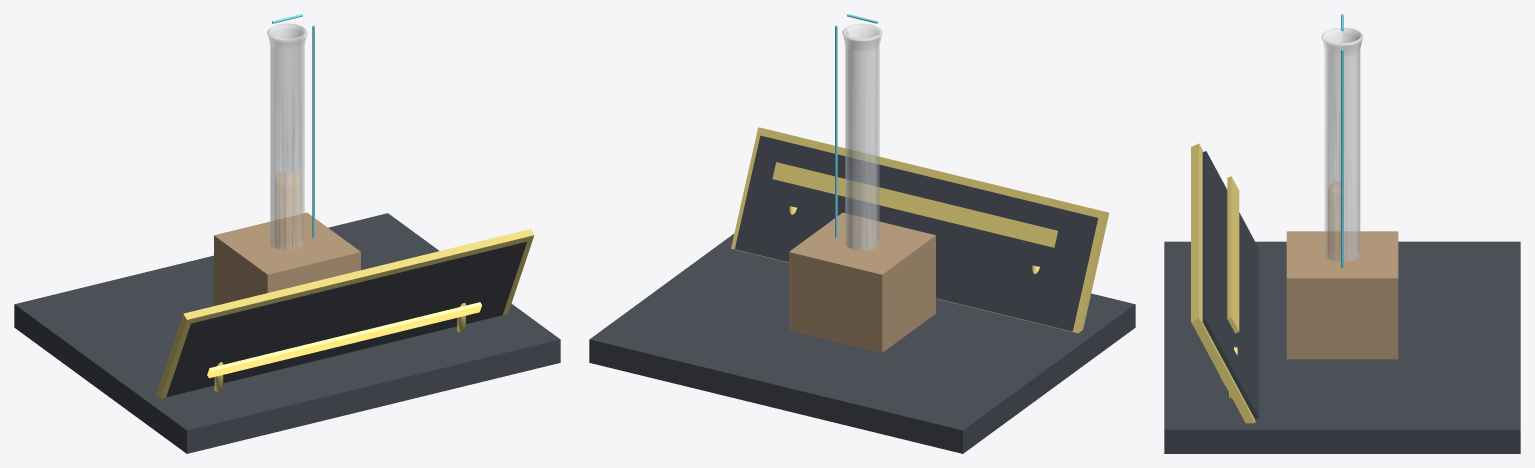
3 views of the same model, side by side, from view 1: azimuth 30°, elevation 25°; view 2: azimuth 150°, elevation 25°; view 3: azimuth 270°, elevation 25° (orthographic). The views are drawn at different scales.
Visible parts, largest first — view 1: Sec_Plinth, test-tube_Plinth, Sec_Plaque_Board, test-tube_Body, test-tube_Rack_Block, Sec_Plaque_Frame, Sec_Rack_Half, Sec_Plaque_Bar_2, Sec_Tube_Body, Sec_Caliper_L; view 2: Sec_Plinth, Sec_Plaque_Board, test-tube_Plinth, Sec_Rack_Half, test-tube_Body, Sec_Tube_Body, test-tube_Rack_Block, Sec_Plaque_Title, Sec_Plaque_Frame, Sec_Caliper_L; view 3: Sec_Plinth, test-tube_Plinth, test-tube_Rack_Block, Sec_Plaque_Board, test-tube_Body, Sec_Rack_Half, Sec_Tube_Body, Sec_Plaque_Frame, Sec_Plaque_Title, test-tube_Liquid, Sec_Caliper_L.
Boxes of the visible parts, x1,y1,x2,y2 form: Sec_Plinth: [14, 213, 560, 453]; test-tube_Plinth: [33, 218, 513, 447]; Sec_Plaque_Board: [166, 241, 527, 397]; test-tube_Body: [267, 23, 307, 250]; test-tube_Rack_Block: [214, 213, 360, 305]; Sec_Plaque_Frame: [156, 229, 534, 398]; Sec_Rack_Half: [214, 212, 333, 305]; Sec_Plaque_Bar_2: [207, 302, 481, 378]; Sec_Tube_Body: [267, 23, 304, 246]; Sec_Caliper_L: [312, 25, 314, 237]; Sec_Plinth: [589, 234, 1135, 453]; Sec_Plaque_Board: [735, 135, 1098, 331]; test-tube_Plinth: [608, 250, 1116, 445]; Sec_Rack_Half: [789, 232, 909, 352]; test-tube_Body: [842, 23, 882, 250]; Sec_Tube_Body: [842, 27, 879, 250]; test-tube_Rack_Block: [790, 212, 935, 349]; Sec_Plaque_Title: [772, 162, 1057, 247]; Sec_Plaque_Frame: [731, 127, 1109, 333]; Sec_Caliper_L: [835, 25, 837, 237]; Sec_Plinth: [1164, 241, 1520, 453]; test-tube_Plinth: [1164, 251, 1520, 420]; test-tube_Rack_Block: [1286, 231, 1398, 359]; Sec_Plaque_Board: [1202, 151, 1258, 419]; test-tube_Body: [1321, 27, 1362, 261]; Sec_Rack_Half: [1342, 231, 1398, 359]; Sec_Tube_Body: [1342, 27, 1362, 261]; Sec_Plaque_Frame: [1191, 143, 1255, 423]; Sec_Plaque_Title: [1227, 176, 1239, 333]; test-tube_Liquid: [1328, 181, 1340, 253]; Sec_Caliper_L: [1341, 49, 1343, 268].
Bounding box in the file's own units: 0.2 × 0.1676 × 0.16.
